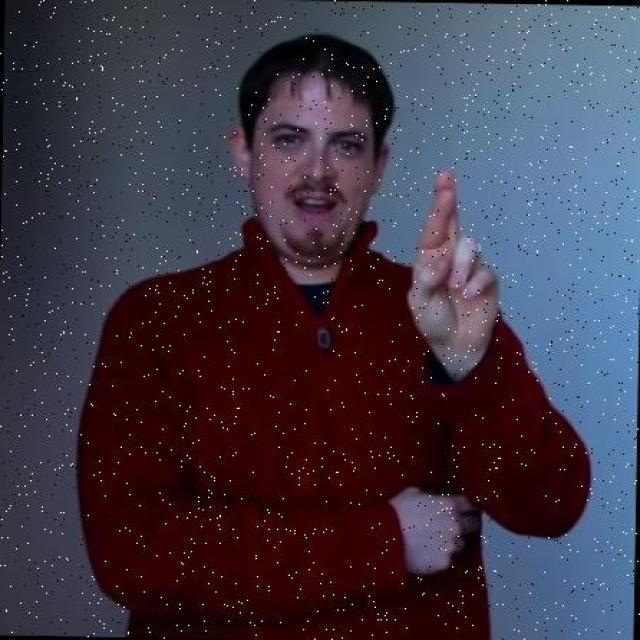R: (402, 166, 508, 359)
